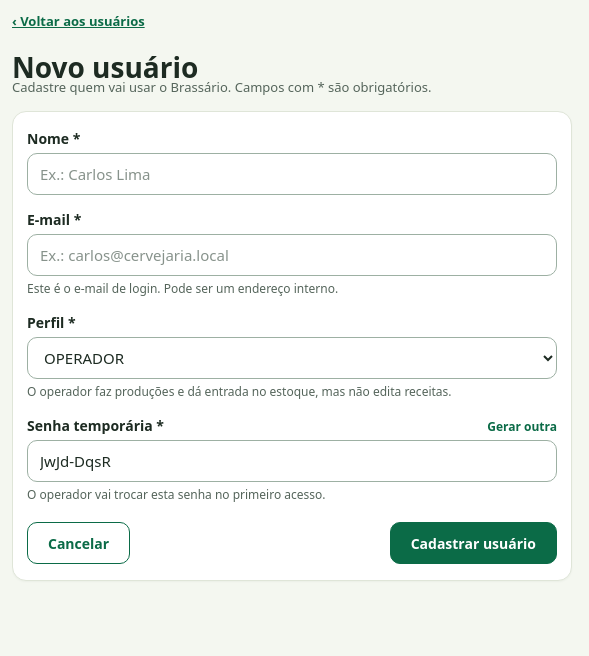
Scenario: NovoUsuario › se a API recusar (e-mail repetido), mostra o motivo e continua na tela
Type "Carlos Lima" into the field labelled "Nome *" at (292, 174), box [27,153,557,195]
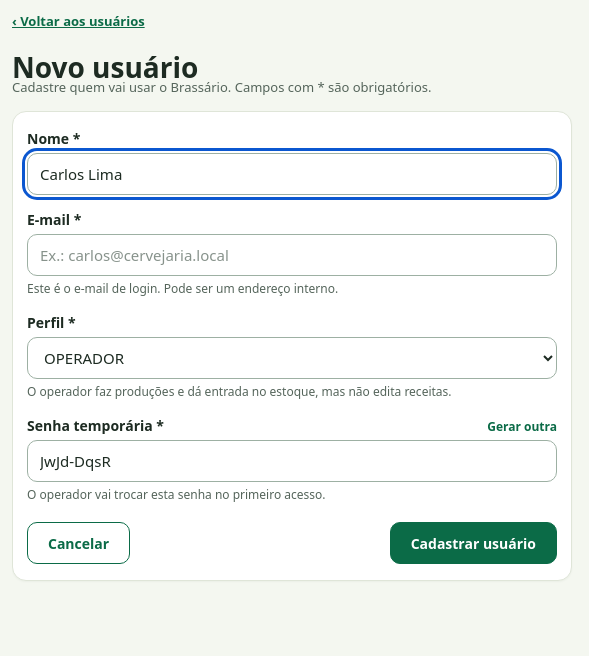
Type "carlos@cervejaria.local" into the field labelled "E-mail *" at (292, 255), box [27,234,557,276]
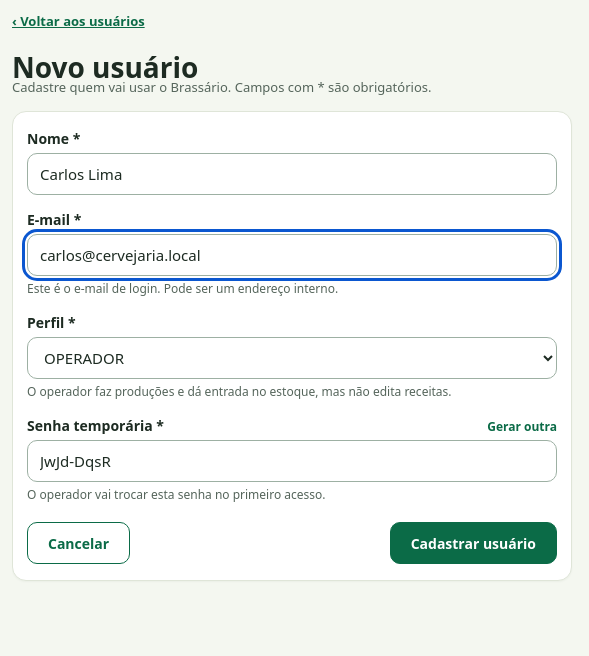
Click the button "Cadastrar usuário" at (473, 543), box [390,522,557,564]
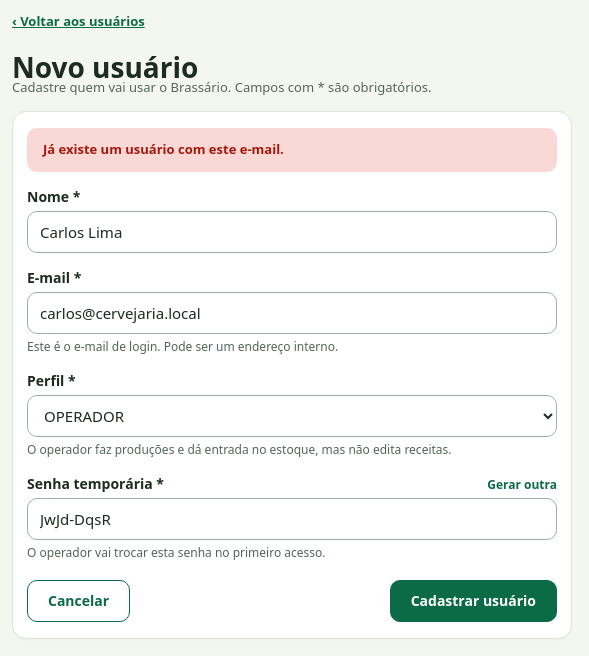
Expected: the heading "Novo usuário" is shown, [12,48,198,86]
Now the message reads "Já existe um usuário com este e-mail.", box [43,140,284,158]
